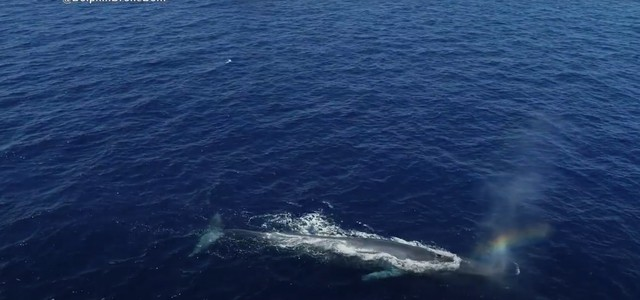whale: (180, 204, 538, 293)
